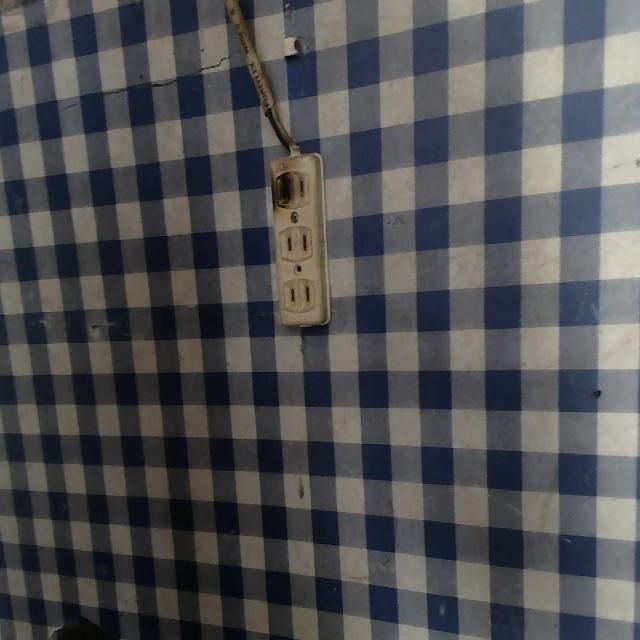-: (266, 168, 297, 212)
